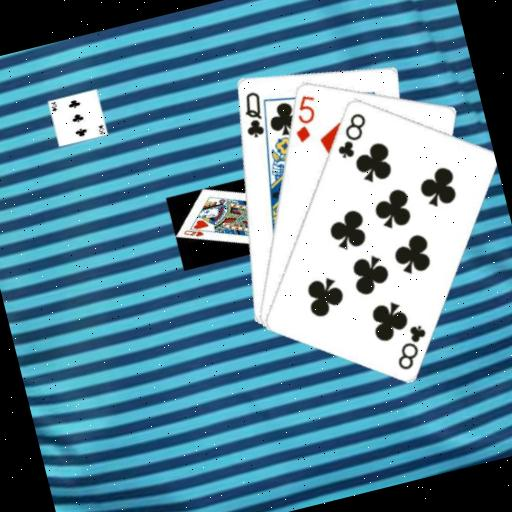5D: (284, 89, 327, 145)
8C: (326, 108, 375, 162), (387, 319, 436, 373)
QC: (234, 87, 271, 142)
